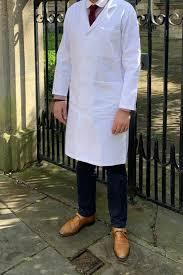lab_coat: (53, 2, 141, 165)
